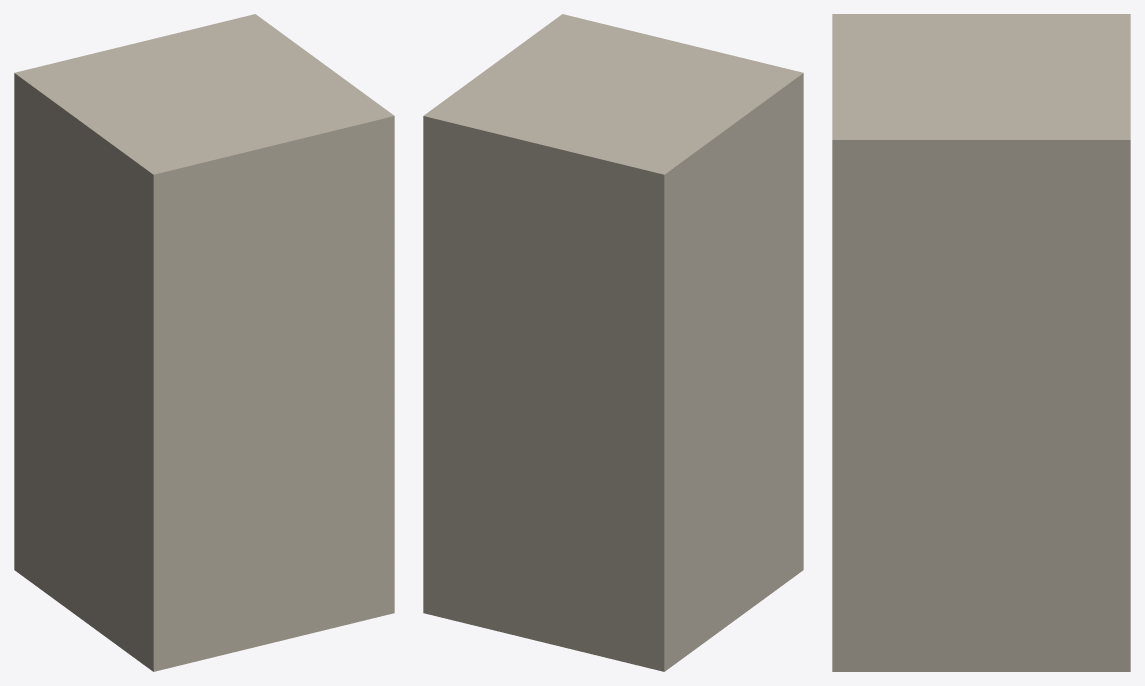
The model's file is ikea-matchspel-60462069-g2-proxy.glb.
3 renders of one model, left to right at view 1: azimuth 30°, elevation 25°; view 2: azimuth 150°, elevation 25°; view 3: azimuth 270°, elevation 25°, orthographic. The views are drawn at different scales.
Visible parts, largest first — view 1: proxy_body; view 2: proxy_body; view 3: proxy_body.
Part boxes in pixels (left/top/right/bottom): proxy_body: left=14, top=14, right=394, bottom=671; proxy_body: left=423, top=14, right=803, bottom=671; proxy_body: left=832, top=14, right=1130, bottom=671.
Size of the model in its own units: 0.66 by 1.3 by 0.66.
